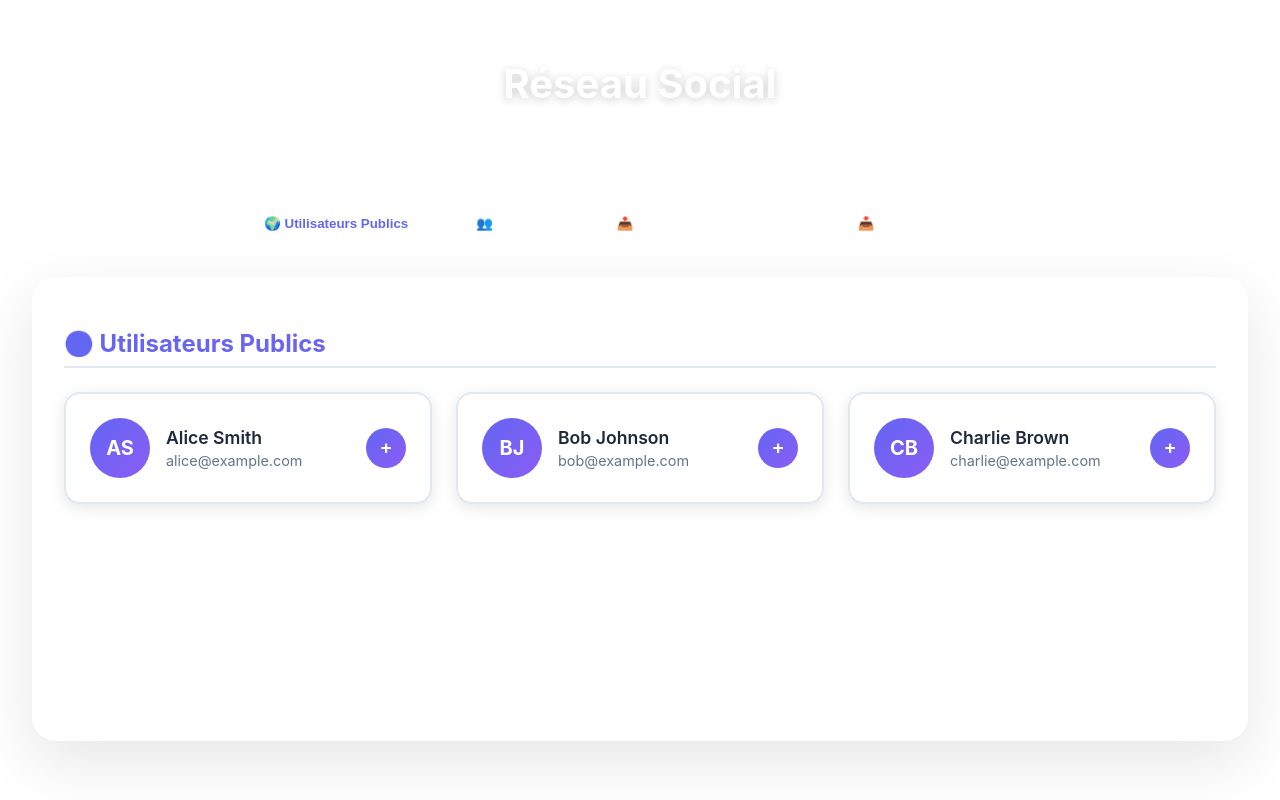
Profil Component › onglet Invitations Reçues → affiche Frank Miller
This screenshot has width=1280, height=800.
Expected: the heading "Alice Smith" is shown, [166,427,262,448]
Click the button "📥 Invitations Reçues (1)".
click(937, 223)  # box [832,202,1042,245]
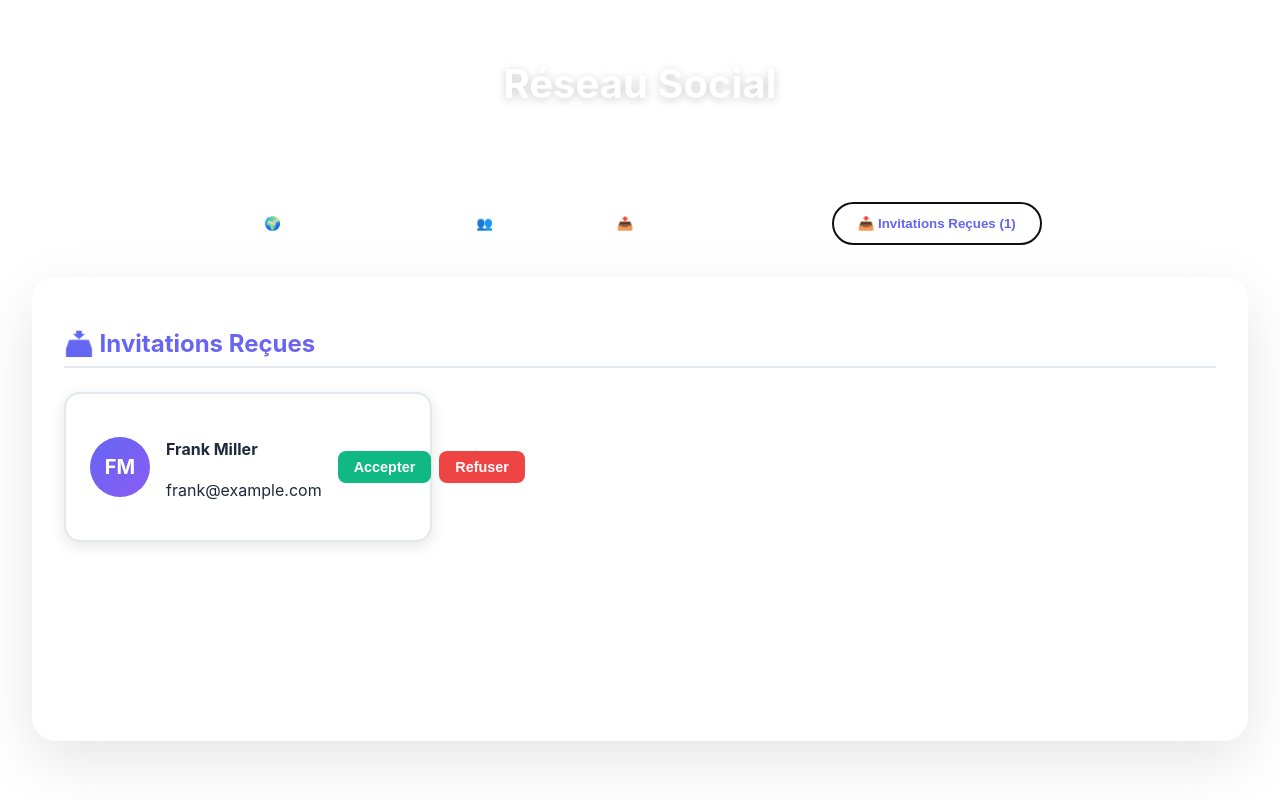
Expected: the heading "Frank Miller" is shown, [166,439,258,459]
